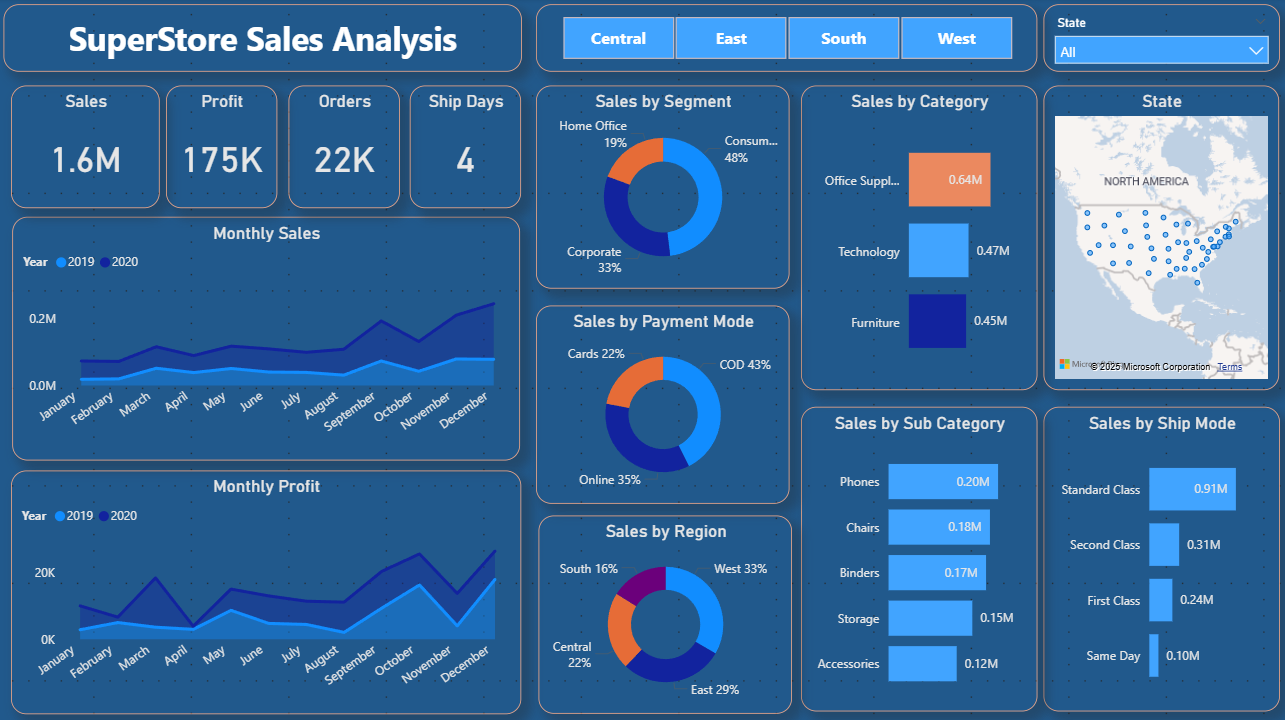

This screenshot's page, from the dashboard's own definition file:
{"tool":"powerbi","page":{"name":"Page 1","canvas":[1280,720],"ordinal":0},"visuals":[{"type":"clusteredBarChart","title":"Sales by Category","fields":{"Category":["SuperStore_Sales_Dataset.Category"],"Y":["Sum(SuperStore_Sales_Dataset.Sales)"]},"box":[792.6,86.2,232.6,300],"z":0},{"type":"clusteredBarChart","title":"Sales by Ship Mode","fields":{"Y":["Sum(SuperStore_Sales_Dataset.Sales)"],"Category":["SuperStore_Sales_Dataset.Ship Mode"]},"box":[1031.4,402.5,232.6,300.3],"z":1000},{"type":"clusteredBarChart","title":"Sales by Sub Category","fields":{"Y":["Sum(SuperStore_Sales_Dataset.Sales)"],"Category":["SuperStore_Sales_Dataset.Sub-Category"]},"box":[792.6,402.5,232.6,300.3],"z":2000},{"type":"map","fields":{"Category":["SuperStore_Sales_Dataset.State"]},"box":[1031.4,86.2,232,300],"z":3000},{"type":"stackedAreaChart","title":"Monthly Sales","fields":{"Y":["Sum(SuperStore_Sales_Dataset.Sales)"],"Category":["SuperStore_Sales_Dataset.Order Date.Variation.Date Hierarchy.Month","SuperStore_Sales_Dataset.Order Date.Variation.Date Hierarchy.Day"],"Series":["SuperStore_Sales_Dataset.Order Date.Variation.Date Hierarchy.Year"]},"box":[16,215.4,499.7,240],"z":4000},{"type":"stackedAreaChart","title":"Monthly Profit","fields":{"Category":["SuperStore_Sales_Dataset.Order Date.Variation.Date Hierarchy.Month","SuperStore_Sales_Dataset.Order Date.Variation.Date Hierarchy.Day"],"Series":["SuperStore_Sales_Dataset.Order Date.Variation.Date Hierarchy.Year"],"Y":["Sum(SuperStore_Sales_Dataset.Profit)"]},"box":[14.8,465.2,502.2,240],"z":5000},{"type":"donutChart","title":"Sales by Segment","fields":{"Y":["Sum(SuperStore_Sales_Dataset.Sales)"],"Category":["SuperStore_Sales_Dataset.Segment"]},"box":[531.7,86.2,249.8,200],"z":6000},{"type":"donutChart","title":"Sales by Payment Mode","fields":{"Y":["Sum(SuperStore_Sales_Dataset.Sales)"],"Category":["SuperStore_Sales_Dataset.Payment Mode"]},"box":[531.7,302.8,249.8,195],"z":7000},{"type":"donutChart","title":"Sales by Region","fields":{"Y":["Sum(SuperStore_Sales_Dataset.Sales)"],"Category":["SuperStore_Sales_Dataset.Region"]},"box":[534.2,509.5,249.8,195],"z":8000},{"type":"slicer","fields":{"Values":["SuperStore_Sales_Dataset.Region"]},"box":[531.7,6.2,493.5,66.5],"z":9000},{"type":"textbox","box":[7.4,6.2,510.8,66.5],"z":10000},{"type":"card","title":"Sales","fields":{"Values":["Sum(SuperStore_Sales_Dataset.Sales)"]},"box":[14.8,86.2,146.5,120.6],"z":11000},{"type":"card","title":"Profit","fields":{"Values":["Sum(SuperStore_Sales_Dataset.Profit)"]},"box":[167.4,86.2,109.5,120.6],"z":12000},{"type":"card","title":"Orders","fields":{"Values":["Sum(SuperStore_Sales_Dataset.Quantity)"]},"box":[288,86.2,109.5,120.6],"z":13000},{"type":"card","title":"Ship Days","fields":{"Values":["Avg(SuperStore_Sales_Dataset.AvgDelivery)"]},"box":[407.4,86.2,109.5,120.6],"z":14000},{"type":"slicer","title":"State","fields":{"Values":["SuperStore_Sales_Dataset.State"]},"box":[1031.4,6.2,232.6,66.5],"z":14001}]}

Visuals, with their boxes in screenshot pixels (x1, y1, x2, y2), scaled from the page's 1280x720 canvas onto the 1285x720 screenshot:
"Sales by Category" clusteredBarChart: x1=796 y1=86 x2=1029 y2=386
"Sales by Ship Mode" clusteredBarChart: x1=1035 y1=402 x2=1269 y2=703
"Sales by Sub Category" clusteredBarChart: x1=796 y1=402 x2=1029 y2=703
map - SuperStore_Sales_Dataset.State: x1=1035 y1=86 x2=1268 y2=386
"Monthly Sales" stackedAreaChart: x1=16 y1=215 x2=518 y2=455
"Monthly Profit" stackedAreaChart: x1=15 y1=465 x2=519 y2=705
"Sales by Segment" donutChart: x1=534 y1=86 x2=785 y2=286
"Sales by Payment Mode" donutChart: x1=534 y1=303 x2=785 y2=498
"Sales by Region" donutChart: x1=536 y1=510 x2=787 y2=704
slicer - SuperStore_Sales_Dataset.Region: x1=534 y1=6 x2=1029 y2=73
textbox: x1=7 y1=6 x2=520 y2=73
"Sales" card: x1=15 y1=86 x2=162 y2=207
"Profit" card: x1=168 y1=86 x2=278 y2=207
"Orders" card: x1=289 y1=86 x2=399 y2=207
"Ship Days" card: x1=409 y1=86 x2=519 y2=207
"State" slicer: x1=1035 y1=6 x2=1269 y2=73
